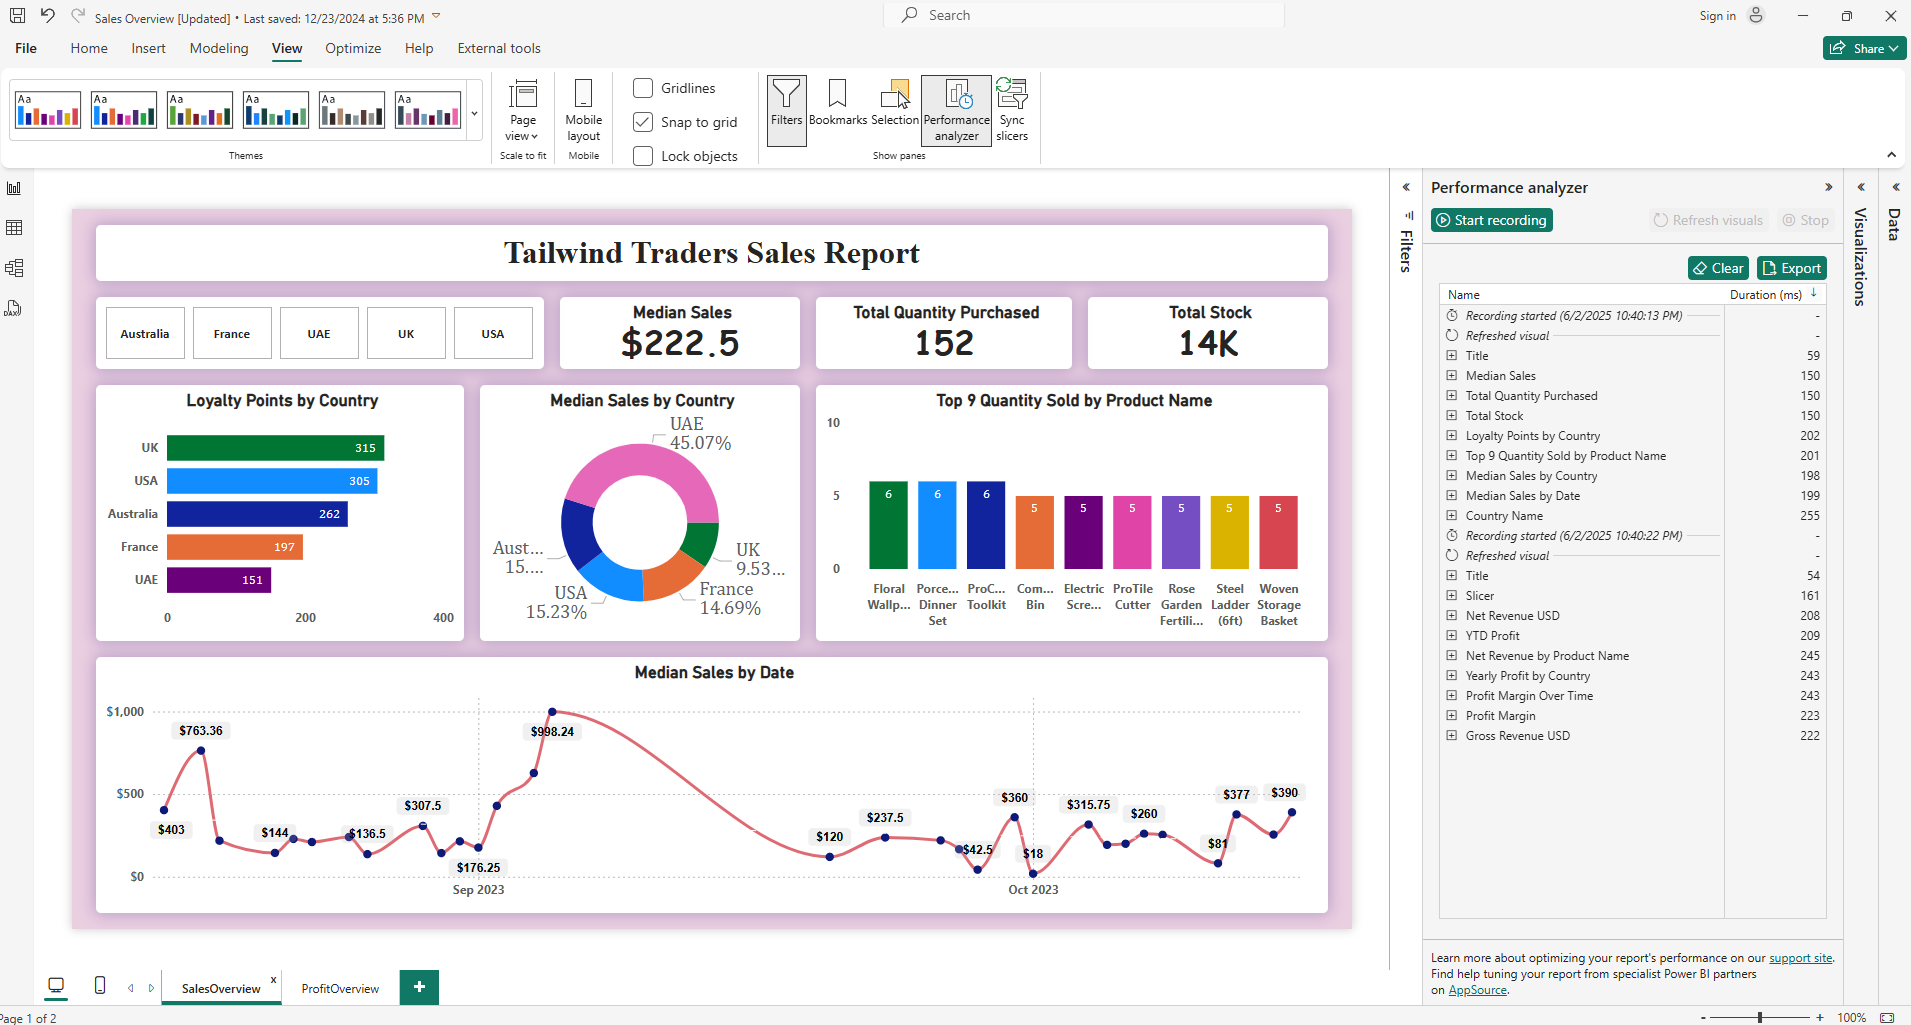

What the dashboard file says about the page in this screenshot:
{"tool":"powerbi","page":{"name":"SalesOverview","canvas":[1280,720],"ordinal":0},"visuals":[{"type":"card","title":"Total Stock","fields":{"Values":["Sum(Sales. Stock  )"]},"box":[1016,88,240,72],"z":0,"group":"g2"},{"type":"columnChart","title":"Top 9 Quantity Sold by Product Name","fields":{"Y":["Sum(Sales in USD.Quantity Purchased)"],"Category":["Sales.Product Name"],"Series":["Sales.Product Name"]},"box":[744,176,512,256],"z":0,"group":"g1"},{"type":"lineChart","title":"Median Sales by Date","fields":{"Y":["All Key Measures.Median Sales"],"Category":["CalendarTable.Date"]},"box":[24,448,1232,256],"z":0},{"type":"card","title":"Total Quantity Purchased","fields":{"Values":["Sum(Sales in USD.Quantity Purchased)"]},"box":[744,88,256,72],"z":1000,"group":"g2"},{"type":"barChart","title":"Loyalty Points by Country","fields":{"Y":["Sum(Sales in USD. Loyalty Points)"],"Category":["Countries.Country"],"Series":["Countries.Country"]},"box":[24,176,368,256],"z":1000,"group":"g1"},{"type":"donutChart","title":"Median Sales by Country","fields":{"Category":["Countries.Country"],"Y":["All Key Measures.Median Sales"]},"box":[408,176,320,256],"z":1000},{"type":"group","id":"g1","title":"Mid. Sec.","box":[24,176,1232,256],"z":1500},{"type":"group","id":"g2","title":"Top. Sec.","box":[24,88,1232,72],"z":2000},{"type":"card","title":"Median Sales","fields":{"Values":["All Key Measures.Median Sales"]},"box":[488,88,240,72],"z":2000,"group":"g2"},{"type":"textbox","title":"Title","box":[24,16,1232,56],"z":3000},{"type":"advancedSlicerVisual","fields":{"Values":["Sales in USD.Country Name"]},"box":[24,88,448,72],"z":3000,"group":"g2"}]}

Visuals, with their boxes on the page's 1280x720 design canvas (x1, y1, x2, y2). These are canvas units, not pixel positions in the 1911x1025 screenshot, which may show the page scaled, cropped or inside an application window:
"Total Stock" card: crop(1016, 88, 1256, 160)
"Top 9 Quantity Sold by Product Name" columnChart: crop(744, 176, 1256, 432)
"Median Sales by Date" lineChart: crop(24, 448, 1256, 704)
"Total Quantity Purchased" card: crop(744, 88, 1000, 160)
"Loyalty Points by Country" barChart: crop(24, 176, 392, 432)
"Median Sales by Country" donutChart: crop(408, 176, 728, 432)
"Mid. Sec." group: crop(24, 176, 1256, 432)
"Top. Sec." group: crop(24, 88, 1256, 160)
"Median Sales" card: crop(488, 88, 728, 160)
"Title" textbox: crop(24, 16, 1256, 72)
advancedSlicerVisual - Sales in USD.Country Name: crop(24, 88, 472, 160)
